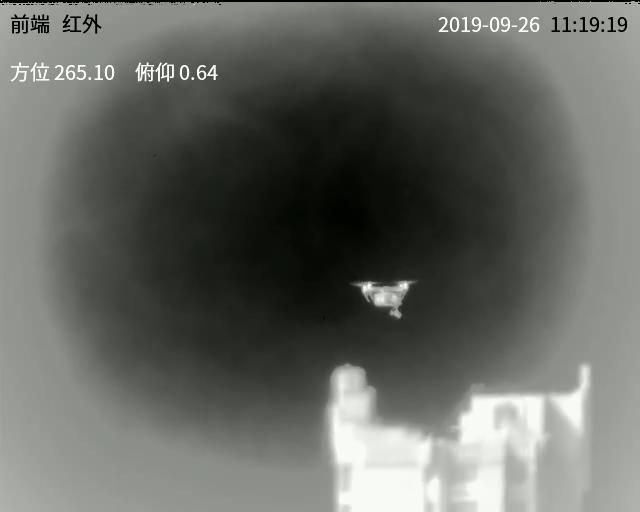uav: (348, 268, 417, 318)
